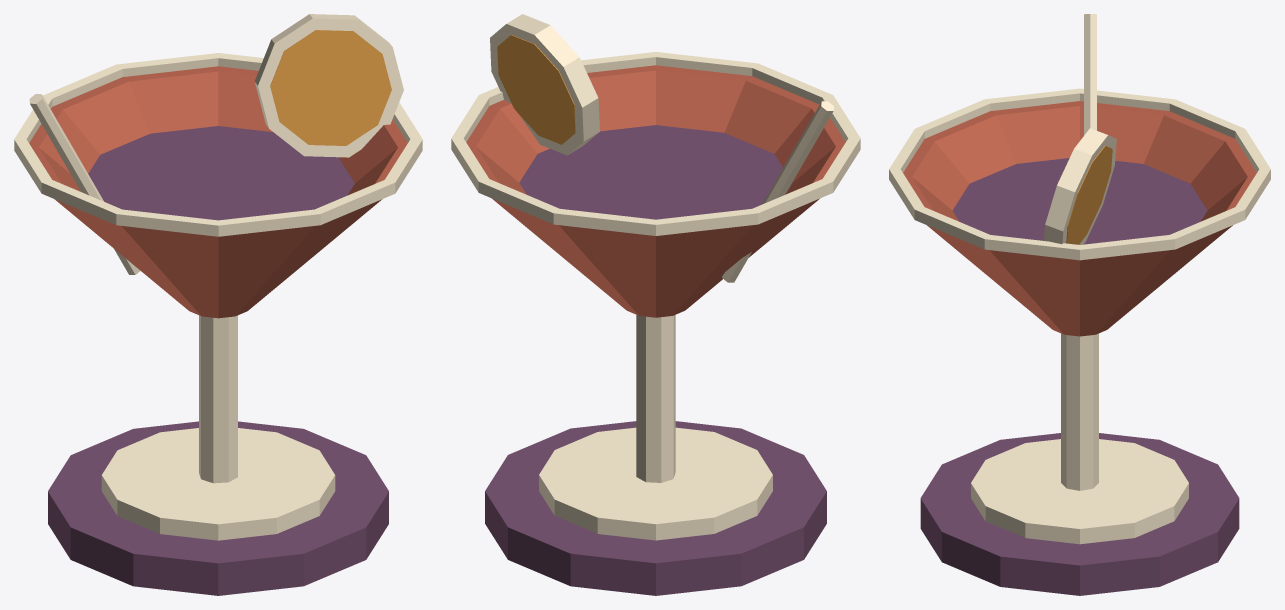
File: in-good-co.glb
3 renders of one model, left to right at view 1: azimuth 30°, elevation 25°; view 2: azimuth 150°, elevation 25°; view 3: azimuth 270°, elevation 25°, orthographic. The views are drawn at different scales.
Parts seen in each view (by area): view 1: 04_Coupe_terracotta, 01_Platform_plum, 02_Base_cream, 06_Cocktail_surface, 05_Cream_rim, 08_Citrus_flesh, 03_Stem_cream, 07_Citrus_rind, 09_Cream_stirrer; view 2: 04_Coupe_terracotta, 01_Platform_plum, 02_Base_cream, 06_Cocktail_surface, 05_Cream_rim, 03_Stem_cream, 08_Citrus_flesh, 07_Citrus_rind, 09_Cream_stirrer; view 3: 04_Coupe_terracotta, 01_Platform_plum, 02_Base_cream, 06_Cocktail_surface, 05_Cream_rim, 03_Stem_cream, 07_Citrus_rind, 08_Citrus_flesh, 09_Cream_stirrer.
Part boxes in pixels (box(x1,y1,x2,y2)): 04_Coupe_terracotta: box(29, 66, 407, 318); 01_Platform_plum: box(48, 421, 388, 595); 02_Base_cream: box(101, 428, 335, 540); 06_Cocktail_surface: box(88, 126, 354, 220); 05_Cream_rim: box(14, 53, 422, 236); 08_Citrus_flesh: box(270, 30, 391, 145); 03_Stem_cream: box(199, 315, 237, 483); 07_Citrus_rind: box(254, 14, 403, 157); 09_Cream_stirrer: box(29, 94, 140, 274); 04_Coupe_terracotta: box(466, 65, 845, 317); 01_Platform_plum: box(485, 421, 826, 595); 02_Base_cream: box(539, 427, 772, 540); 06_Cocktail_surface: box(519, 125, 792, 219); 05_Cream_rim: box(451, 52, 860, 235); 03_Stem_cream: box(636, 315, 675, 482); 08_Citrus_flesh: box(497, 35, 575, 144); 07_Citrus_rind: box(490, 14, 599, 155); 09_Cream_stirrer: box(722, 101, 833, 282); 04_Coupe_terracotta: box(903, 101, 1256, 336); 01_Platform_plum: box(920, 433, 1239, 595); 02_Base_cream: box(971, 439, 1188, 544); 06_Cocktail_surface: box(952, 158, 1207, 244); 05_Cream_rim: box(889, 88, 1270, 260); 03_Stem_cream: box(1061, 333, 1098, 490); 07_Citrus_rind: box(1044, 128, 1116, 244); 08_Citrus_flesh: box(1066, 145, 1112, 244); 09_Cream_stirrer: box(1084, 14, 1096, 135).
Bounding box in the file's own units: 1.85 × 2.34 × 1.82.
